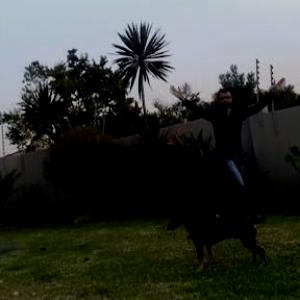takeoff: (147, 84, 260, 215)
